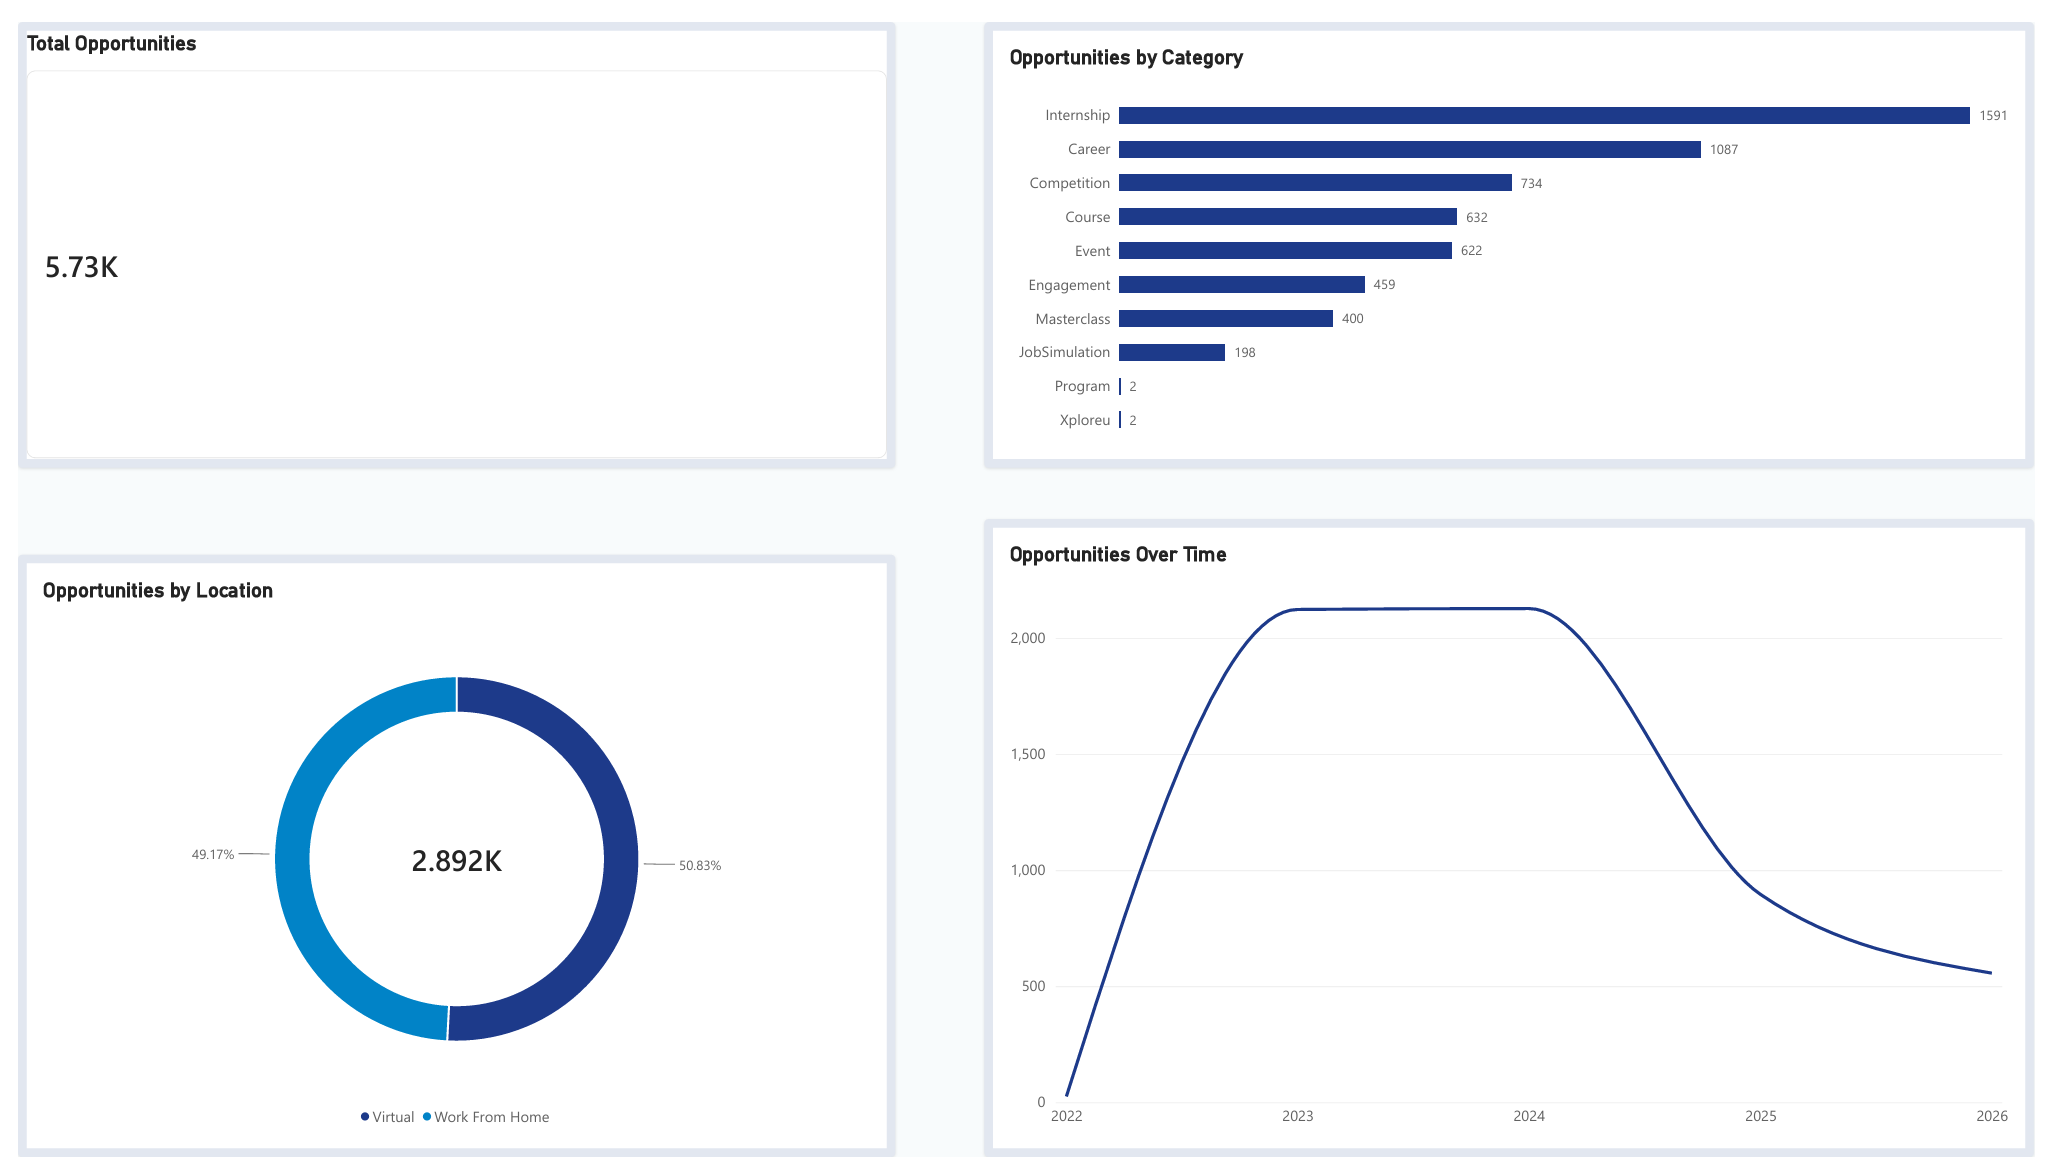

This screenshot's page, from the dashboard's own definition file:
{"tool":"powerbi","page":{"name":"Page 1","canvas":[1920,1080],"ordinal":0},"visuals":[{"type":"cardVisual","title":"Total Opportunities","fields":{"Data":["Count(Sheet1.opportunity_id)"]},"box":[0,0,835,423.9],"z":0},{"type":"clusteredBarChart","title":"Opportunities by Category","fields":{"Category":["Sheet1.category"],"Y":["CountNonNull(Sheet1.opportunity_id)"]},"box":[920.2,0,999.1,423.9],"z":1000},{"type":"donutChart","title":"Opportunities by Location","fields":{"Category":["Sheet1.location"],"Y":["CountNonNull(Sheet1.opportunity_id)"]},"box":[0,507,835,573],"z":2000},{"type":"lineChart","title":"Opportunities Over Time","fields":{"Category":["Sheet1.created_at.Variation.Date Hierarchy.Year","Sheet1.created_at.Variation.Date Hierarchy.Quarter","Sheet1.created_at.Variation.Date Hierarchy.Month","Sheet1.created_at.Variation.Date Hierarchy.Day"],"Y":["CountNonNull(Sheet1.opportunity_id)"]},"box":[920.2,472.9,999.1,607.1],"z":3000}]}

Visuals, with their boxes in screenshot pixels (x1, y1, x2, y2), scaled from the page's 1920x1080 canvas onto the 2058x1175 screenshot:
"Total Opportunities" cardVisual: x1=0, y1=0, x2=895, y2=461
"Opportunities by Category" clusteredBarChart: x1=986, y1=0, x2=2057, y2=461
"Opportunities by Location" donutChart: x1=0, y1=552, x2=895, y2=1174
"Opportunities Over Time" lineChart: x1=986, y1=514, x2=2057, y2=1174
